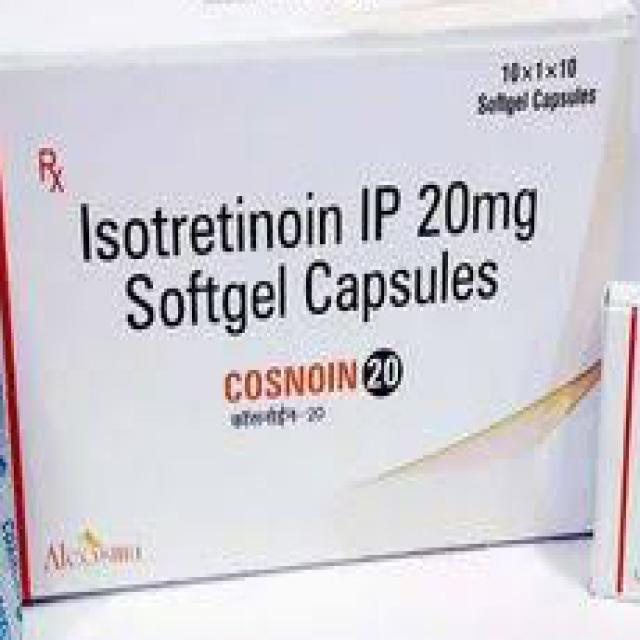drug-name: (213, 342, 411, 403)
